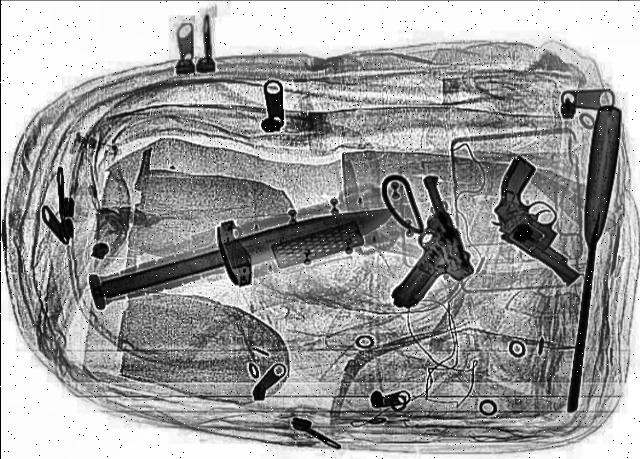Gun: (446, 155, 634, 279), (339, 174, 485, 308)
Knife: (86, 196, 400, 304), (556, 103, 622, 410)
